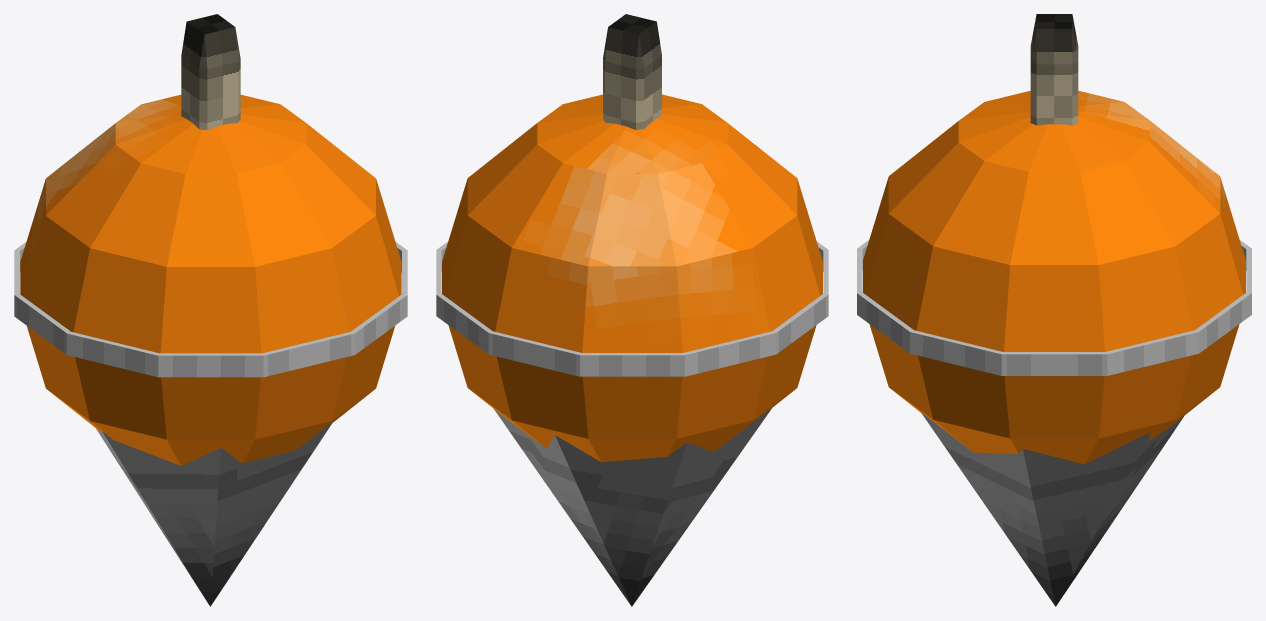
Rendered from drillbottom.gltf.
3 renders of one model, left to right at view 1: azimuth 30°, elevation 25°; view 2: azimuth 150°, elevation 25°; view 3: azimuth 270°, elevation 25°, orthographic.
Visible parts, largest first — view 1: sphere, cone, tube, beveled_cuboid; view 2: sphere, cone, tube, beveled_cuboid; view 3: sphere, cone, tube, beveled_cuboid.
Boxes of the visible parts, box(x1,y1,x2,y2) form: sphere: box(20, 94, 401, 465); cone: box(96, 420, 333, 606); tube: box(14, 242, 407, 377); beveled_cuboid: box(181, 14, 240, 130); sphere: box(442, 94, 822, 462); cone: box(494, 407, 772, 606); tube: box(436, 241, 828, 376); beveled_cuboid: box(603, 14, 661, 129); sphere: box(863, 91, 1245, 464); cone: box(920, 411, 1183, 606); tube: box(857, 240, 1251, 375); beveled_cuboid: box(1030, 14, 1078, 125).
Bounding box in the file's own units: 1.03 × 1.69 × 1.03.
3 materials, 3 textured.
